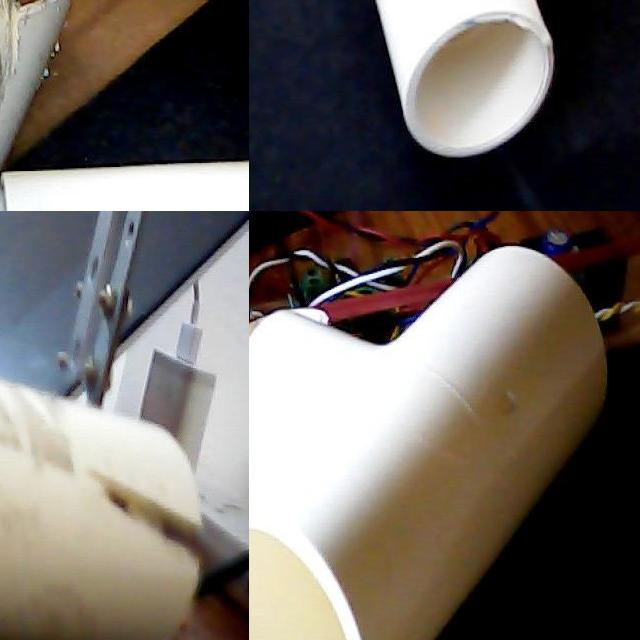Defective: (64, 442, 198, 590), (87, 472, 217, 578), (1, 0, 79, 54)
T Joint: (249, 246, 609, 640), (374, 0, 556, 162), (0, 161, 249, 211)
